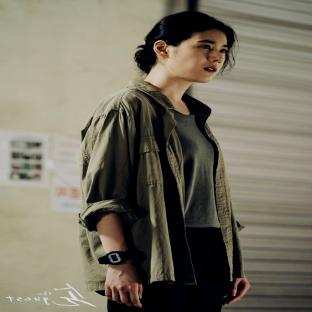Human: (77, 11, 250, 312)
